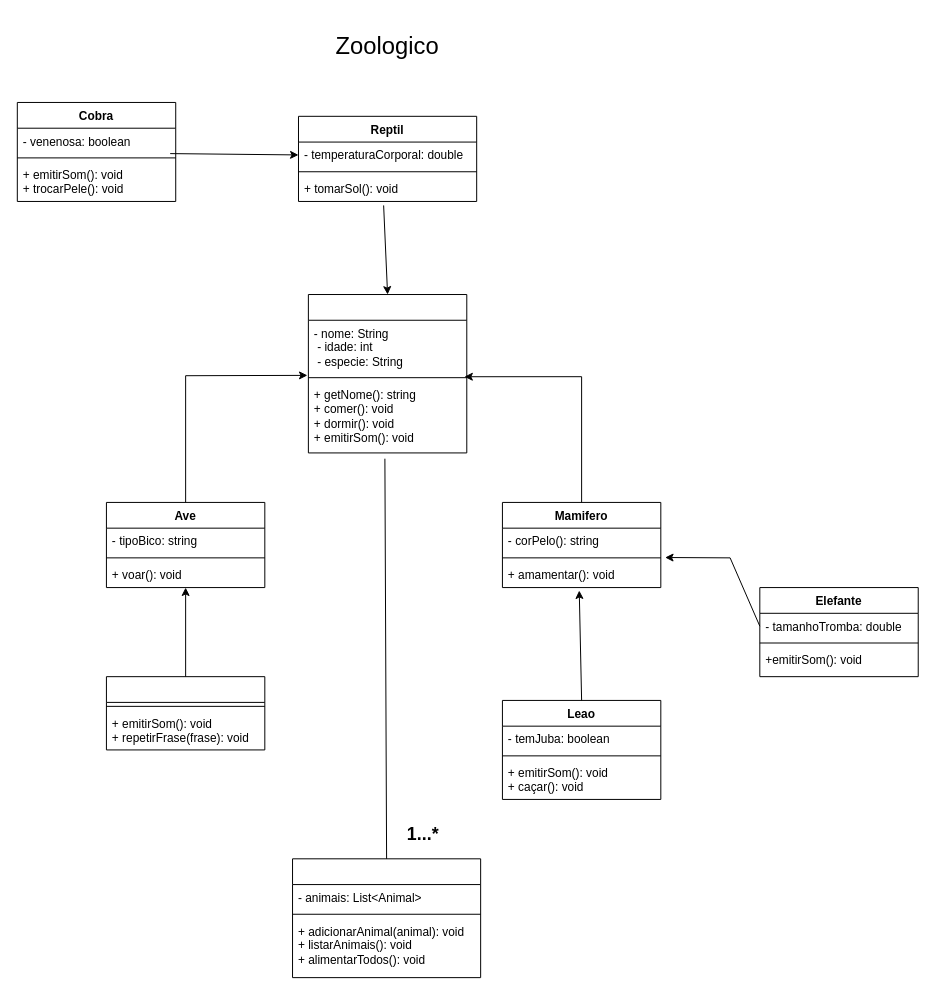
Image size: 936x997. Some labels were removed from this diagram. Here are the shapes that lost their labels. From the top down, the box of each, then its label:
(307, 294, 467, 453): Animal
(105, 676, 265, 750): Papagaio
(292, 858, 481, 978): SistemaZoologico
